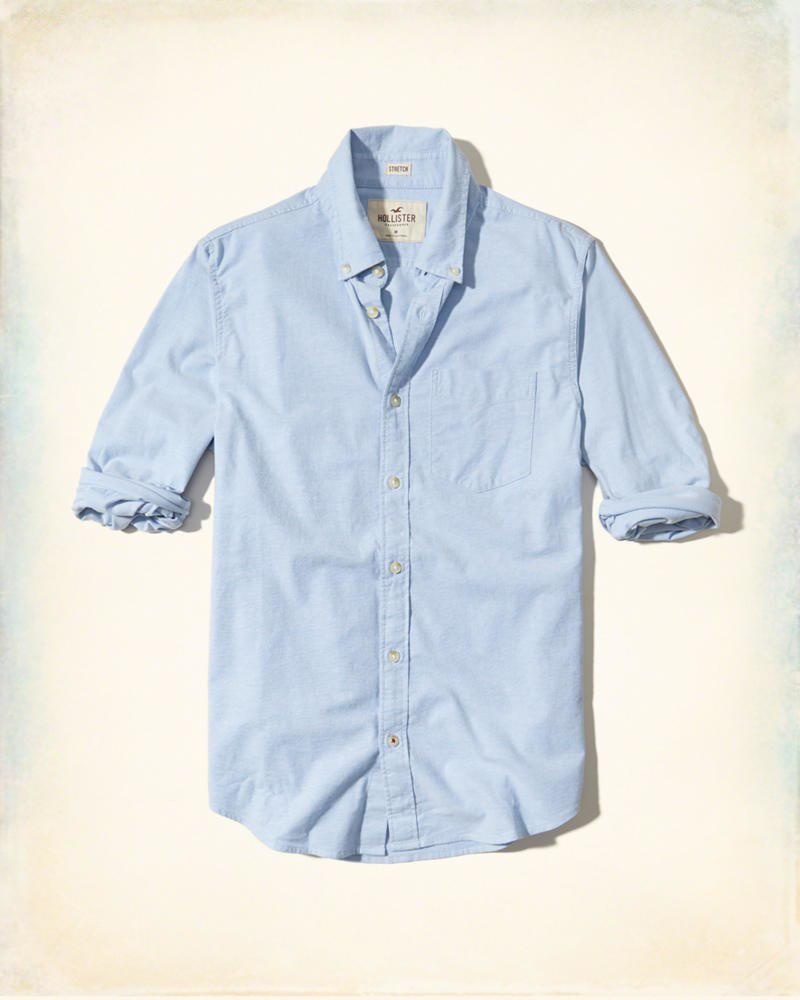teeshirt: (105, 107, 732, 878)
